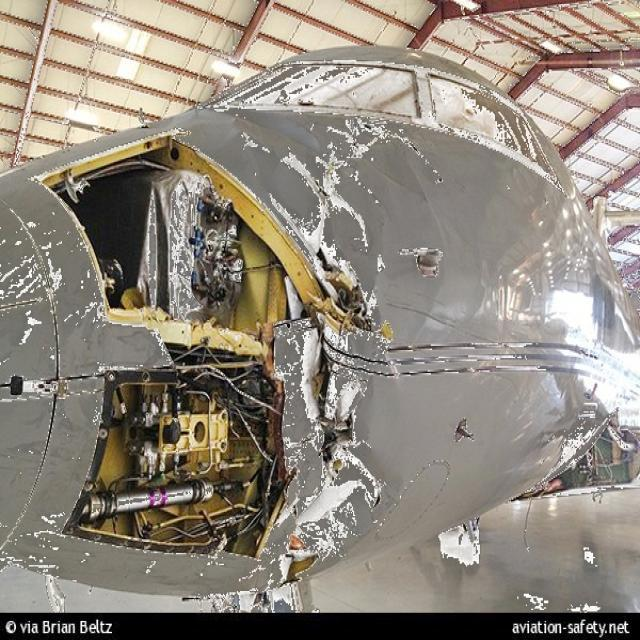crack: (284, 155, 369, 255), (359, 121, 445, 187)
dent: (357, 166, 445, 339), (232, 117, 326, 158)
